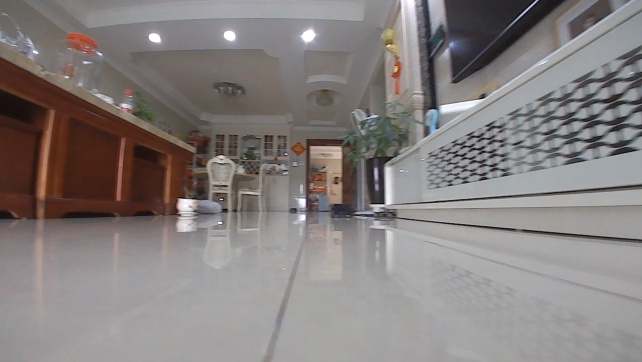TV_stand1: (383, 0, 641, 242)
cupboard: (187, 152, 269, 213)
